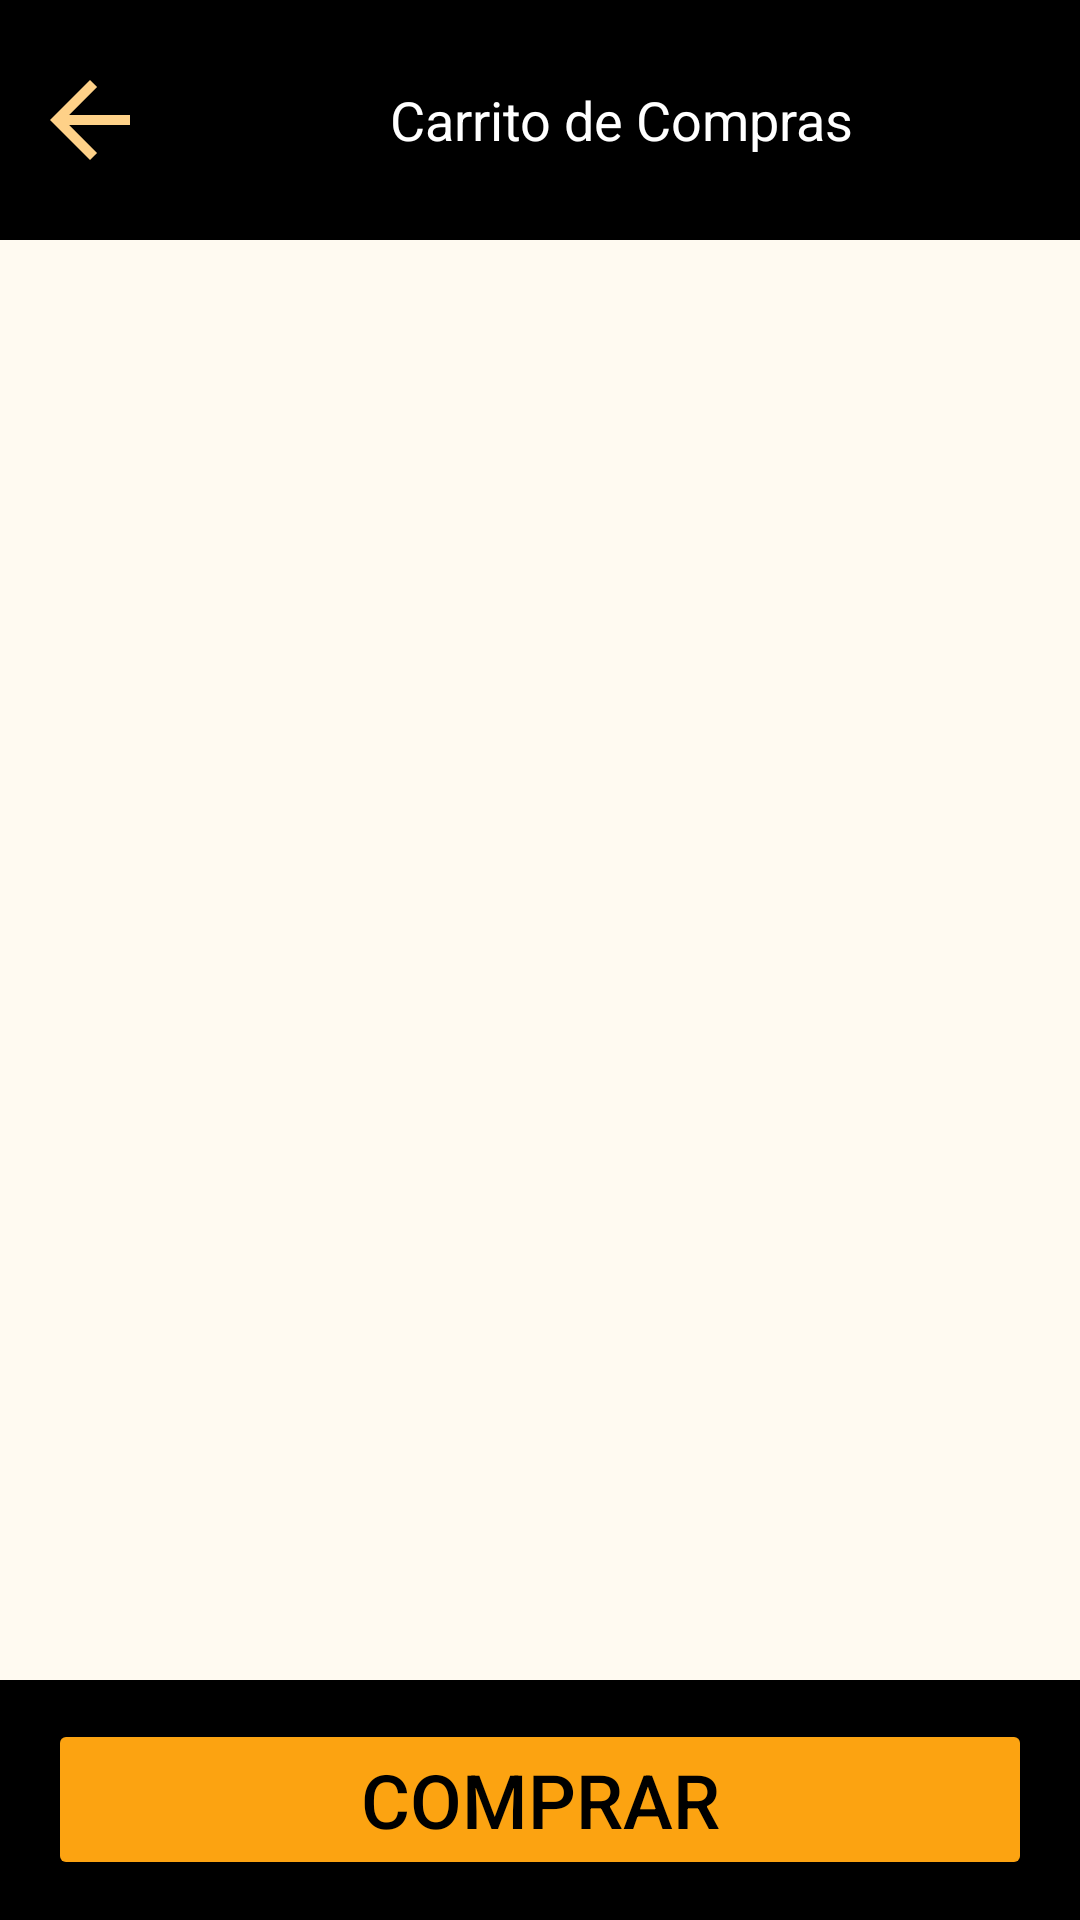

Locate icon controls on the screen. Image size 1080×1920, boxes as rect(x1, y1, x2, y2).
atras: rect(50, 80, 130, 160)
